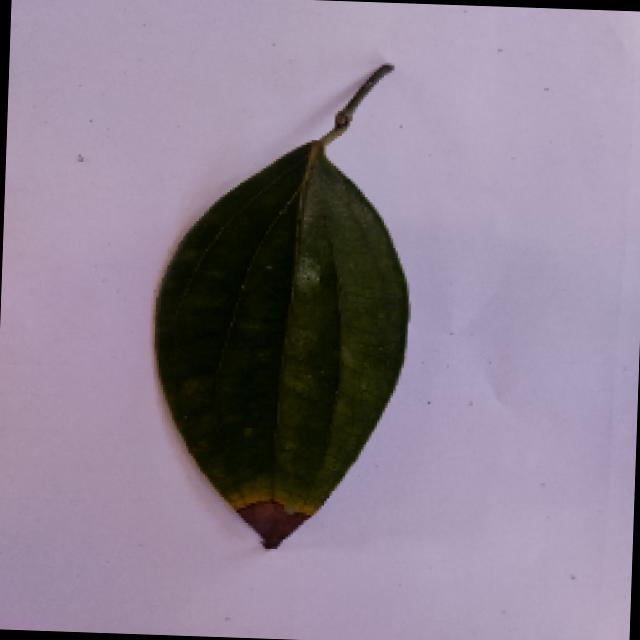footrot: (137, 62, 424, 556)
